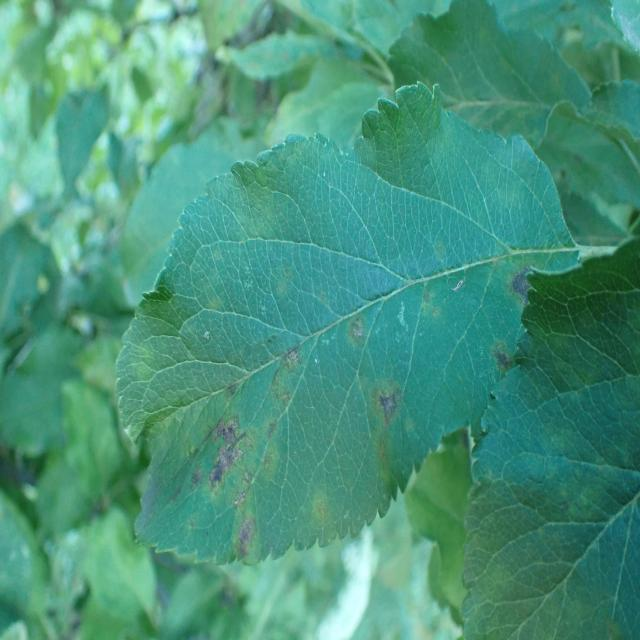scab: (160, 230, 544, 581)
